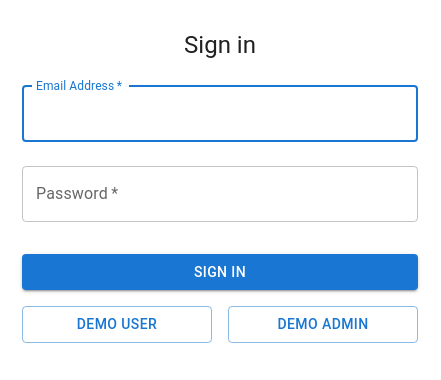
Test case: Login Flow › should show error on invalid credentials
Type "wrong@todo.dev" into the field named "email".
click(220, 114); type("wrong@todo.dev")  # box [22, 86, 418, 142]
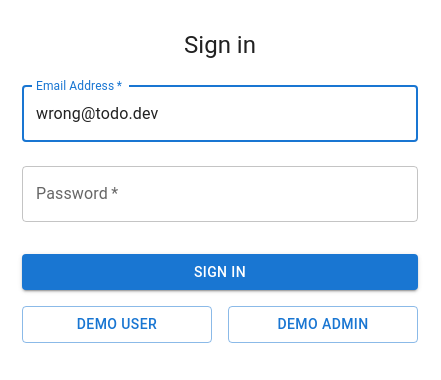
Type "wrongpass" into the password field named "password".
click(220, 194); type("wrongpass")  # box [22, 166, 418, 222]
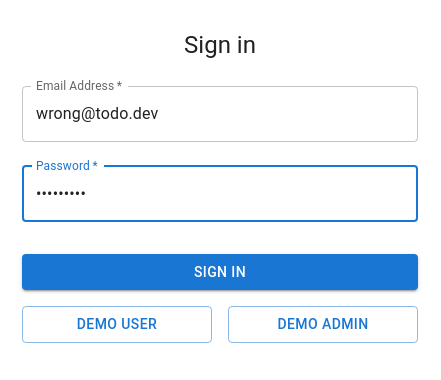
Click the submit button.
click(220, 273)  # box [22, 254, 418, 291]
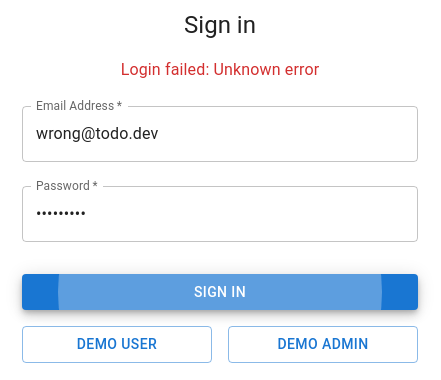
expect the text "Login failed" is shown: met, box [121, 60, 320, 79]
